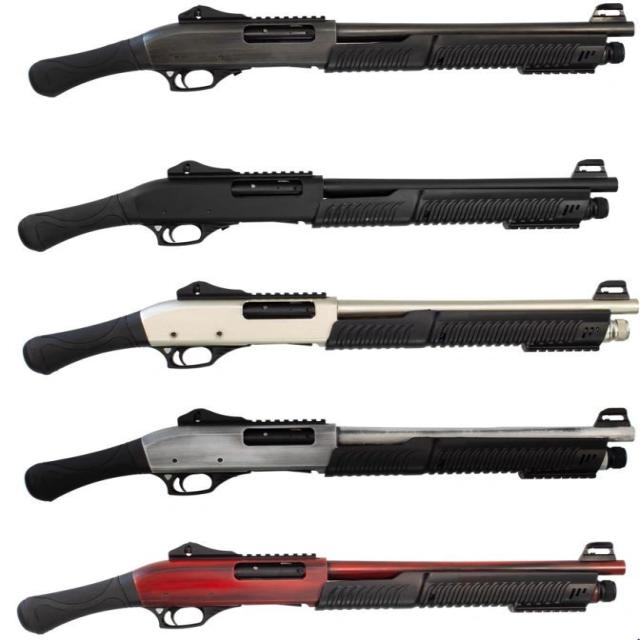ShotGun: (30, 2, 640, 100), (24, 280, 640, 377), (25, 408, 638, 504), (18, 159, 622, 255), (17, 545, 629, 636)
